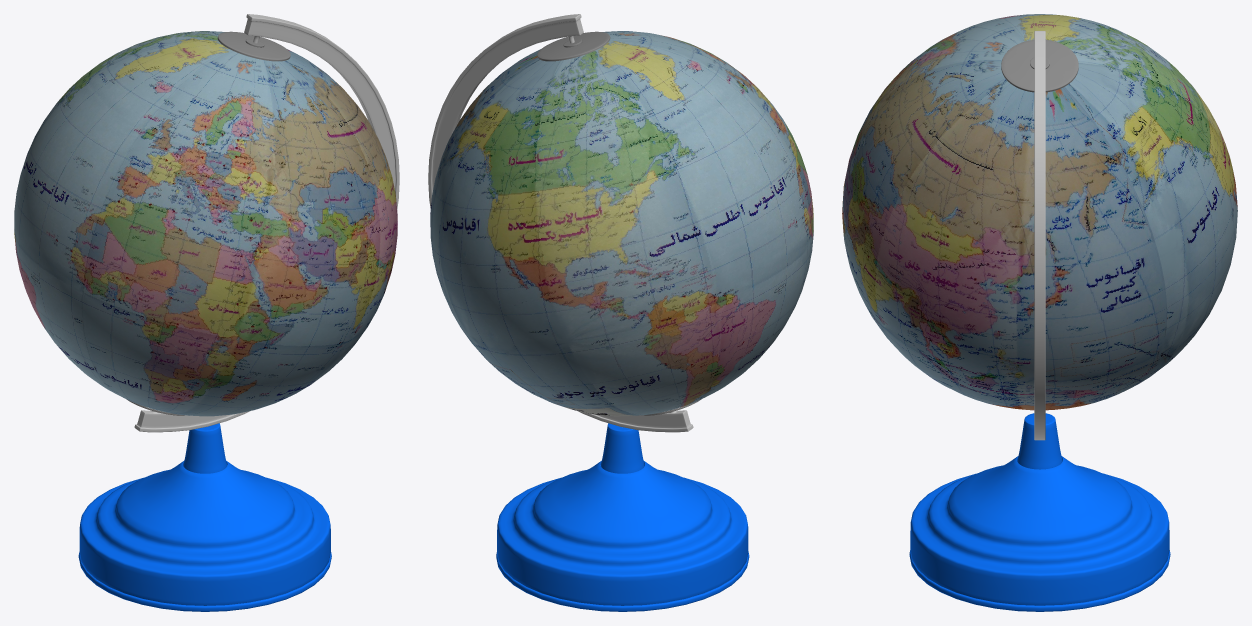
The picture shows the model from 3 angles, left to right: view 1: azimuth 30°, elevation 25°; view 2: azimuth 150°, elevation 25°; view 3: azimuth 270°, elevation 25°; orthographic projection. The views are drawn at different scales.
Parts seen in each view (by area): view 1: Object01, Globe02; view 2: Object01, Globe02; view 3: Object01, Globe02.
Boxes of the visible parts, box(x1,y1,x2,y2) form: Object01: box(14, 31, 397, 416); Globe02: box(78, 14, 399, 611); Object01: box(430, 31, 813, 416); Globe02: box(428, 14, 749, 611); Object01: box(842, 14, 1237, 410); Globe02: box(909, 31, 1170, 611).
Size of the model in its own units: 178 by 253 by 165.
Materials: 4 (1 with a texture image).
